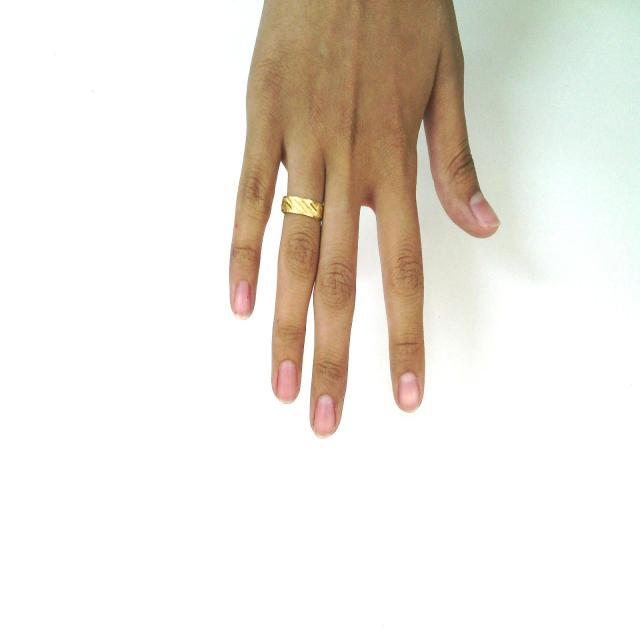Fingernail: (470, 192, 500, 226), (314, 394, 335, 435), (277, 360, 297, 403), (398, 373, 419, 411), (235, 282, 251, 315)
